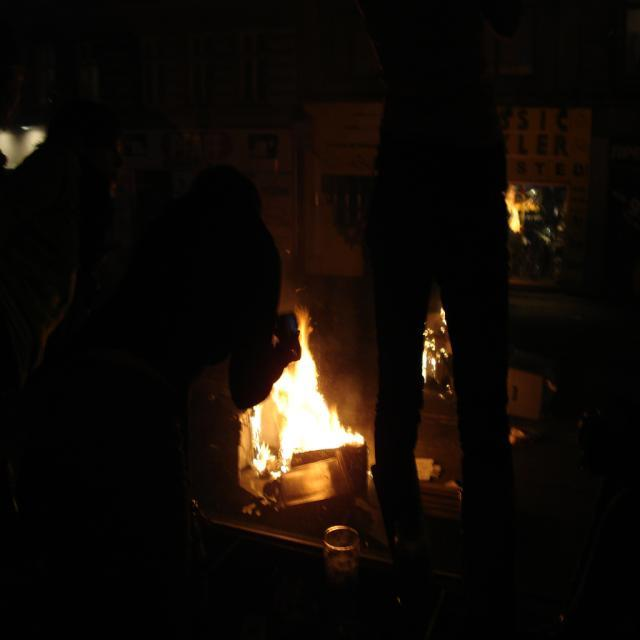Fire: (262, 382, 358, 446)
